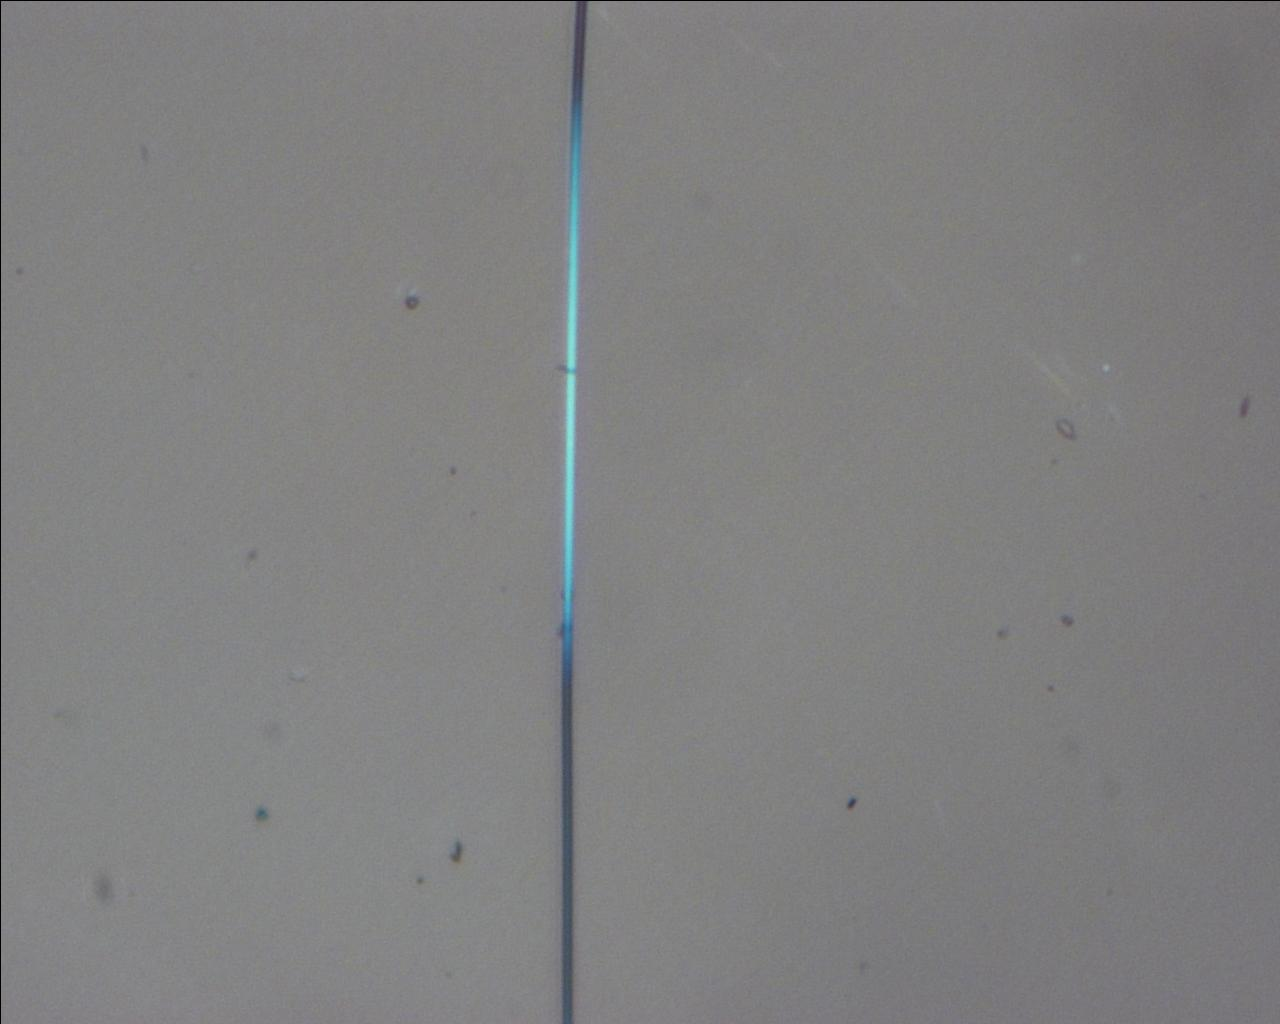fiber: (559, 0, 586, 1024)
